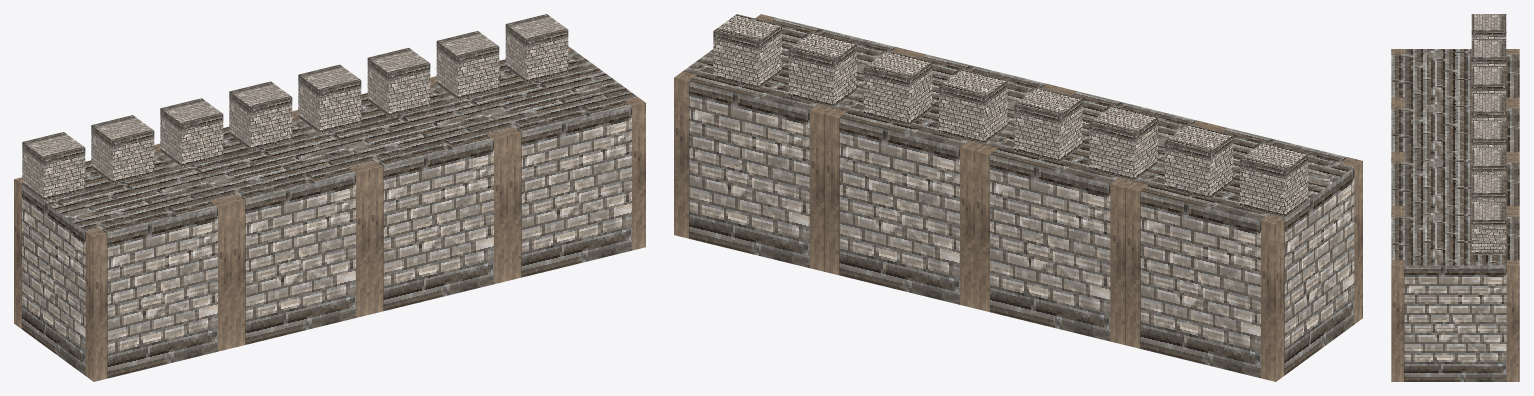
File: wall_medium.glb
3 renders of one model, left to right at view 1: azimuth 30°, elevation 25°; view 2: azimuth 150°, elevation 25°; view 3: azimuth 270°, elevation 25°, orthographic. The views are drawn at different scales.
Visible parts, largest first — view 1: wall_med_0, wall_med_1, wall_med_3, wall_med_2, Merlon_2_F, Merlon_4_F, Merlon_5_F, Merlon_6_F, Merlon_0_F, Merlon_1_F, Merlon_3_F, Merlon_7_F (+16 smaller); view 2: wall_med_0, wall_med_1, wall_med_2, wall_med_3, Merlon_1_B, Merlon_2_B, Merlon_5_B, Merlon_6_B, Merlon_3_B, Merlon_7_B, Merlon_0_B, Merlon_4_B (+16 smaller); view 3: wall_med_3, wall_med_1, wall_med_2, wall_med_0, Merlon_7_R, Merlon_3_T, Merlon_4_T, Merlon_0_T, Merlon_1_T, Merlon_2_T, Merlon_5_T, Merlon_6_T (+8 smaller).
Part boxes in pixels (bbox=[...]): wall_med_0: bbox=[14, 147, 231, 381]; wall_med_1: bbox=[154, 113, 369, 347]; wall_med_3: bbox=[430, 46, 645, 280]; wall_med_2: bbox=[292, 80, 507, 314]; Merlon_2_F: bbox=[182, 114, 223, 167]; Merlon_4_F: bbox=[320, 80, 361, 133]; Merlon_5_F: bbox=[389, 63, 430, 116]; Merlon_6_F: bbox=[458, 46, 499, 99]; Merlon_0_F: bbox=[44, 147, 85, 200]; Merlon_1_F: bbox=[113, 131, 154, 183]; Merlon_3_F: bbox=[251, 97, 292, 150]; Merlon_7_F: bbox=[527, 30, 568, 82]; wall_med_0: bbox=[1125, 124, 1362, 381]; wall_med_1: bbox=[975, 87, 1211, 345]; wall_med_2: bbox=[824, 51, 1061, 308]; wall_med_3: bbox=[674, 14, 910, 271]; Merlon_1_B: bbox=[1164, 141, 1209, 199]; Merlon_2_B: bbox=[1089, 123, 1134, 180]; Merlon_5_B: bbox=[863, 68, 908, 125]; Merlon_6_B: bbox=[788, 49, 833, 107]; Merlon_3_B: bbox=[1014, 104, 1059, 162]; Merlon_7_B: bbox=[713, 31, 758, 88]; Merlon_0_B: bbox=[1240, 159, 1284, 217]; Merlon_4_B: bbox=[939, 86, 983, 144]; wall_med_3: bbox=[1391, 211, 1519, 381]; wall_med_1: bbox=[1391, 103, 1519, 157]; wall_med_2: bbox=[1391, 157, 1519, 211]; wall_med_0: bbox=[1391, 49, 1519, 102]; Merlon_7_R: bbox=[1471, 220, 1506, 254]; Merlon_3_T: bbox=[1471, 95, 1506, 111]; Merlon_4_T: bbox=[1471, 122, 1506, 138]; Merlon_0_T: bbox=[1471, 14, 1506, 30]; Merlon_1_T: bbox=[1471, 41, 1506, 57]; Merlon_2_T: bbox=[1471, 68, 1506, 84]; Merlon_5_T: bbox=[1471, 149, 1506, 165]; Merlon_6_T: bbox=[1471, 176, 1506, 192].
Size of what is drawn, in the model's own units: 8 by 2.6 by 2.
13 materials, 13 textured.
